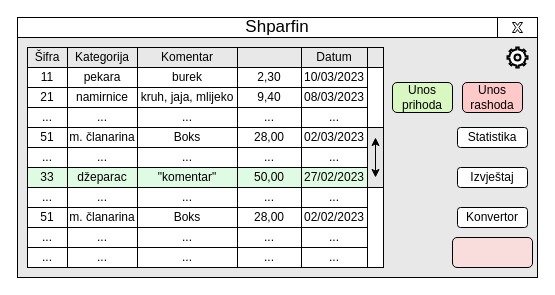
The diagram is 555 pixels wide and 295 high, and some of its shapes have lost their labels. Each missing label, with the centre of its shape:
Iznos: the point at 269,57
Unos rashoda s csv: the point at 492,252
